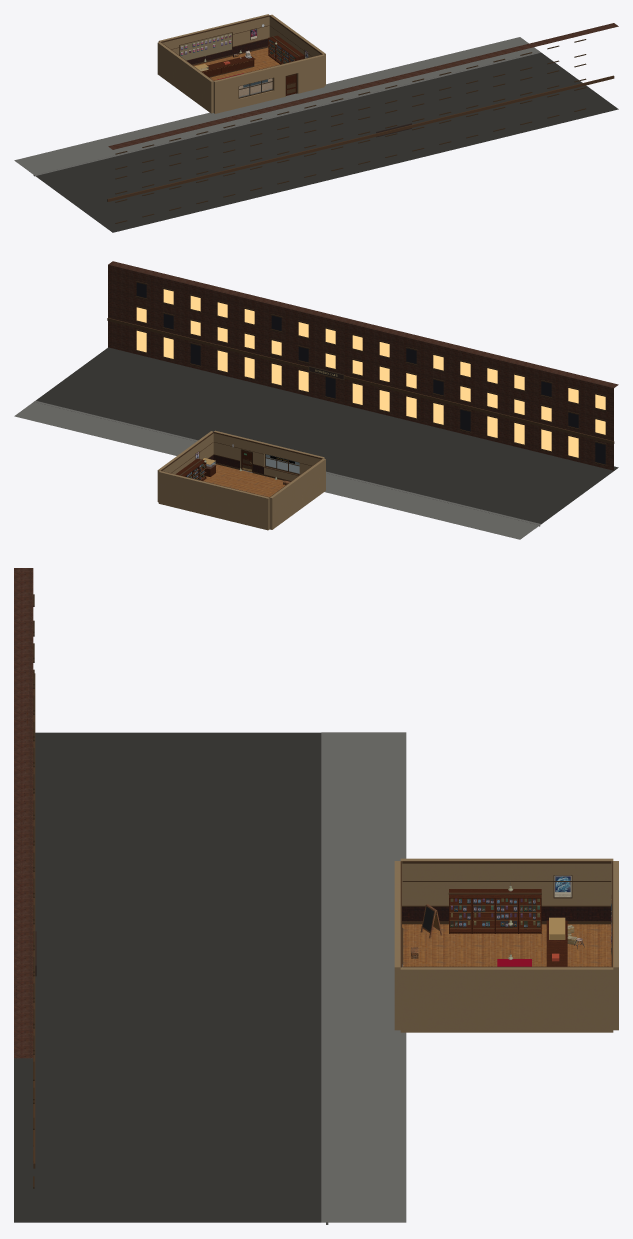
File: grandpa-shop.glb
3 renders of one model, top to bottom at view 1: azimuth 30°, elevation 25°; view 2: azimuth 150°, elevation 25°; view 3: azimuth 270°, elevation 25°, orthographic. The views are drawn at different scales.
Parts seen in each view (by area): view 1: bake:plain:road, bake:plain:pavement, bake:beige_wall_001:wall, bake:plain:trim, bake:red_brick_03:brick, bake:plain:frame, bake:wood_floor_worn:floor, bake:plain:pegboard, bake:wood_table_001:shelf, bake:dark_paneled_wood:wainscot, bake:plain:glass; view 2: bake:red_brick_03:brick, bake:plain:road, bake:beige_wall_001:wall, bake:plain:pavement, bake:plain:far-window, bake:plain:trim, bake:plain:frame, bake:plain:far-window-dark, bake:wood_floor_worn:floor; view 3: bake:plain:road, bake:plain:pavement, bake:beige_wall_001:wall, bake:red_brick_03:brick, bake:wood_floor_worn:floor, bake:plain:trim, bake:wood_table_001:shelf, bake:dark_paneled_wood:wainscot, bake:plain:frame.
Boxes of the visible parts, left/top/right/bottom form: bake:plain:road: left=35, top=52, right=618, bottom=232; bake:plain:pavement: left=14, top=37, right=540, bottom=176; bake:beige_wall_001:wall: left=157, top=14, right=325, bottom=113; bake:plain:trim: left=107, top=15, right=614, bottom=201; bake:red_brick_03:brick: left=108, top=23, right=618, bottom=149; bake:plain:frame: left=115, top=28, right=586, bottom=223; bake:wood_floor_worn:floor: left=193, top=47, right=279, bottom=96; bake:plain:pegboard: left=180, top=33, right=231, bottom=60; bake:wood_table_001:shelf: left=268, top=35, right=304, bottom=64; bake:dark_paneled_wood:wainscot: left=187, top=39, right=268, bottom=64; bake:plain:glass: left=200, top=68, right=272, bottom=97; bake:red_brick_03:brick: left=108, top=261, right=618, bottom=470; bake:plain:road: left=36, top=347, right=618, bottom=523; bake:beige_wall_001:wall: left=157, top=430, right=325, bottom=530; bake:plain:pavement: left=14, top=400, right=541, bottom=539; bake:plain:far-window: left=136, top=289, right=605, bottom=457; bake:plain:trim: left=107, top=318, right=614, bottom=497; bake:plain:frame: left=135, top=281, right=606, bottom=474; bake:plain:far-window-dark: left=136, top=282, right=605, bottom=464; bake:wood_floor_worn:floor: left=203, top=464, right=285, bottom=497; bake:plain:road: left=14, top=732, right=321, bottom=1222; bake:plain:pavement: left=321, top=732, right=406, bottom=1224; bake:beige_wall_001:wall: left=394, top=858, right=618, bottom=1032; bake:red_brick_03:brick: left=14, top=568, right=33, bottom=1058; bake:wood_floor_worn:floor: left=402, top=924, right=613, bottom=966; bake:plain:trim: left=33, top=673, right=612, bottom=1168; bake:wood_table_001:shelf: left=449, top=889, right=541, bottom=933; bake:dark_paneled_wood:wainscot: left=402, top=907, right=611, bottom=921; bake:plain:frame: left=33, top=594, right=572, bottom=1188.
Size of the model in its own units: 60 by 9.51 by 31.3.
Materials: 73 (53 with a texture image).
